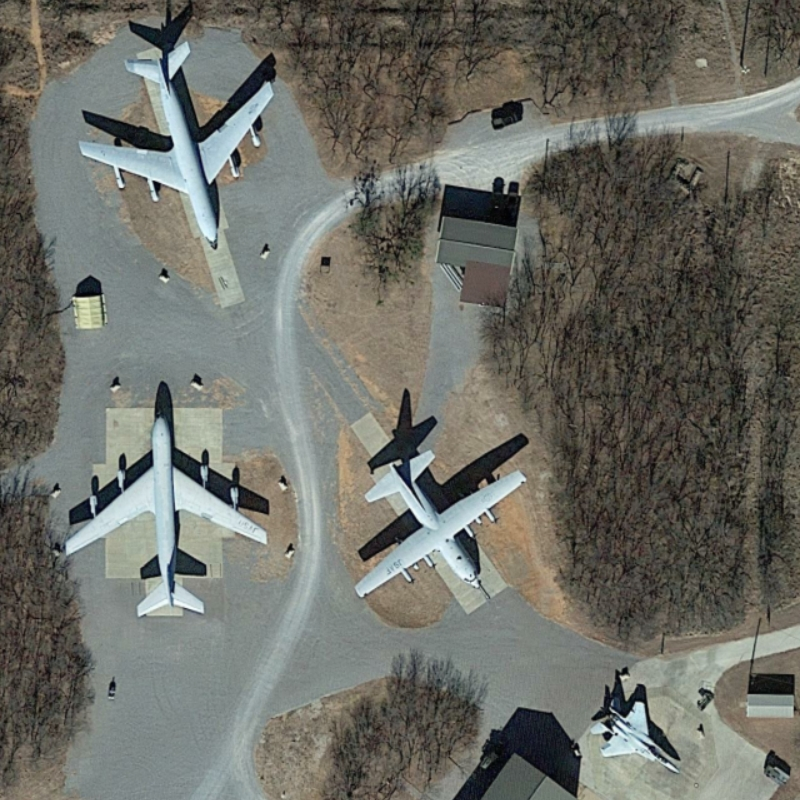A11: (76, 33, 302, 255), (54, 404, 272, 622)
A13: (584, 684, 683, 782)
A14: (346, 432, 537, 617)
